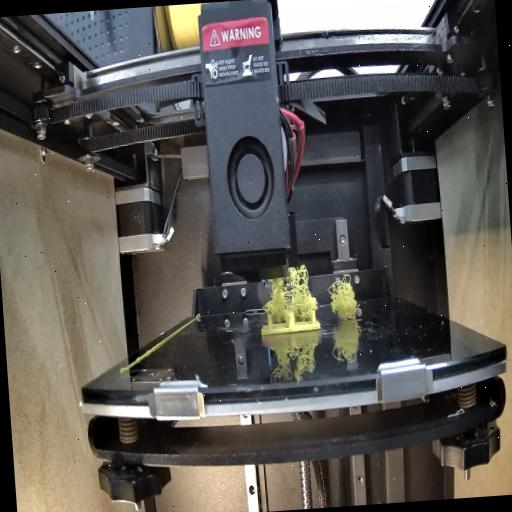spaghetti: (257, 262, 319, 324), (324, 272, 360, 324)
